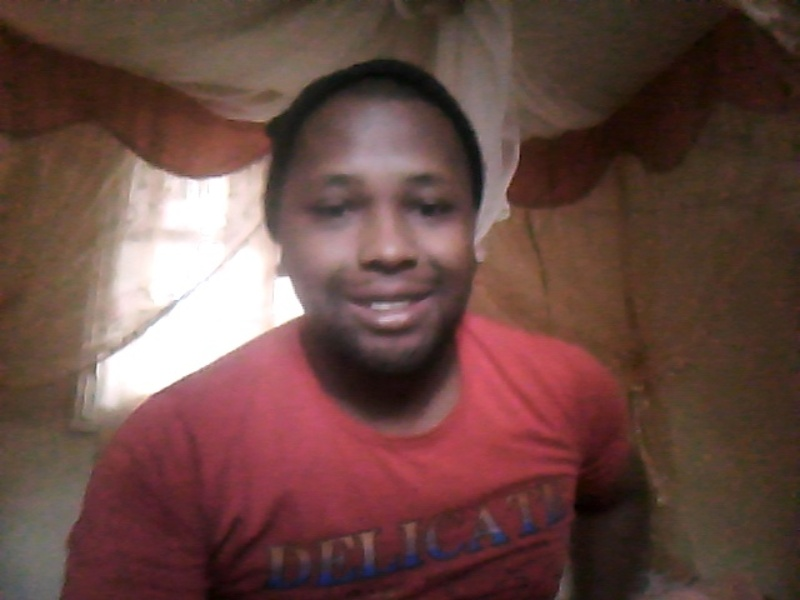TsisyArotava: (264, 45, 506, 389)
